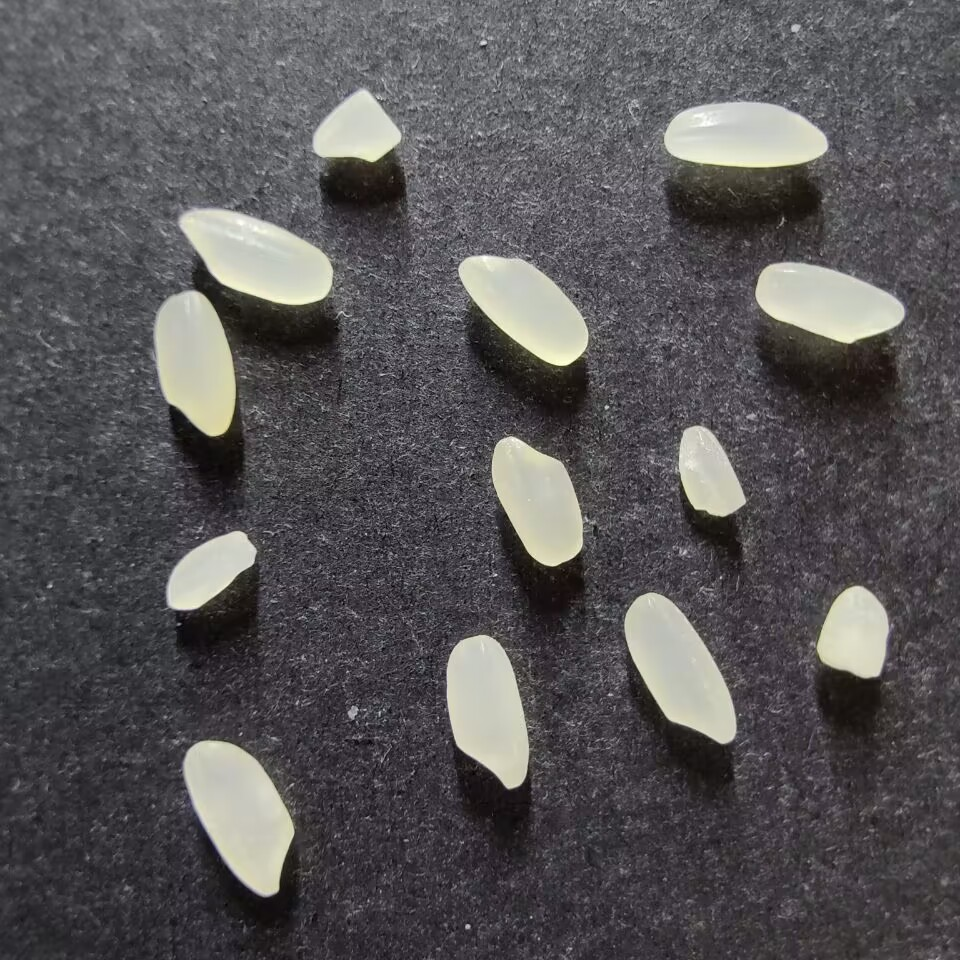broken: (165, 530, 256, 610), (816, 585, 888, 679), (312, 88, 402, 162), (677, 425, 746, 517)
rice: (182, 740, 296, 897), (622, 592, 737, 745), (178, 208, 333, 305), (457, 255, 589, 366), (445, 635, 529, 790), (755, 261, 905, 344), (490, 436, 584, 566), (154, 290, 235, 437), (663, 101, 828, 168)
